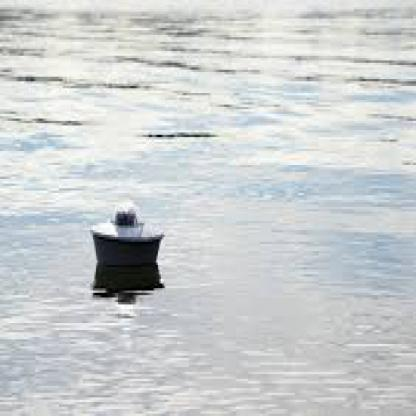buoy: (78, 190, 171, 314)
